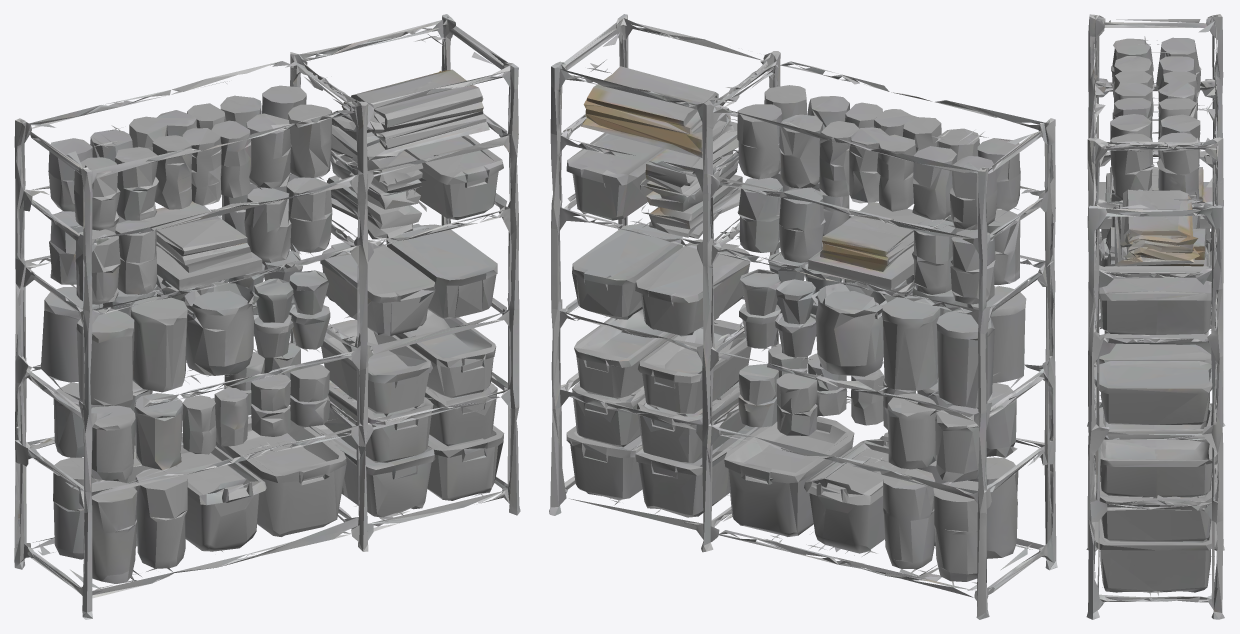
File: srvShelving.glb
The picture shows the model from 3 angles, left to right: view 1: azimuth 30°, elevation 25°; view 2: azimuth 150°, elevation 25°; view 3: azimuth 270°, elevation 25°; orthographic projection. The views are drawn at different scales.
Size of the model in its own units: 1.9 by 1.85 by 0.5684.
Materials: 1 (1 with a texture image).
